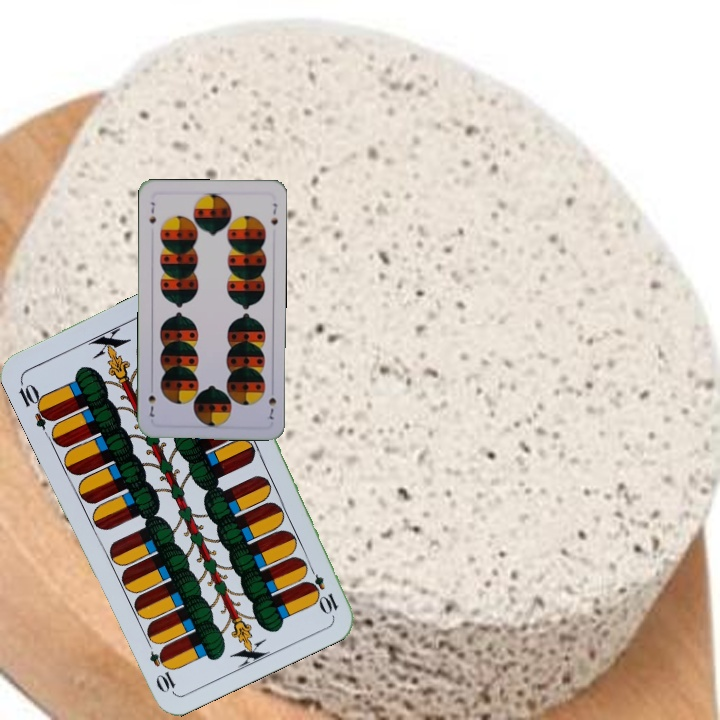E10: (14, 376, 57, 432), (302, 560, 341, 617)
S7: (263, 383, 279, 423), (145, 198, 158, 226)
